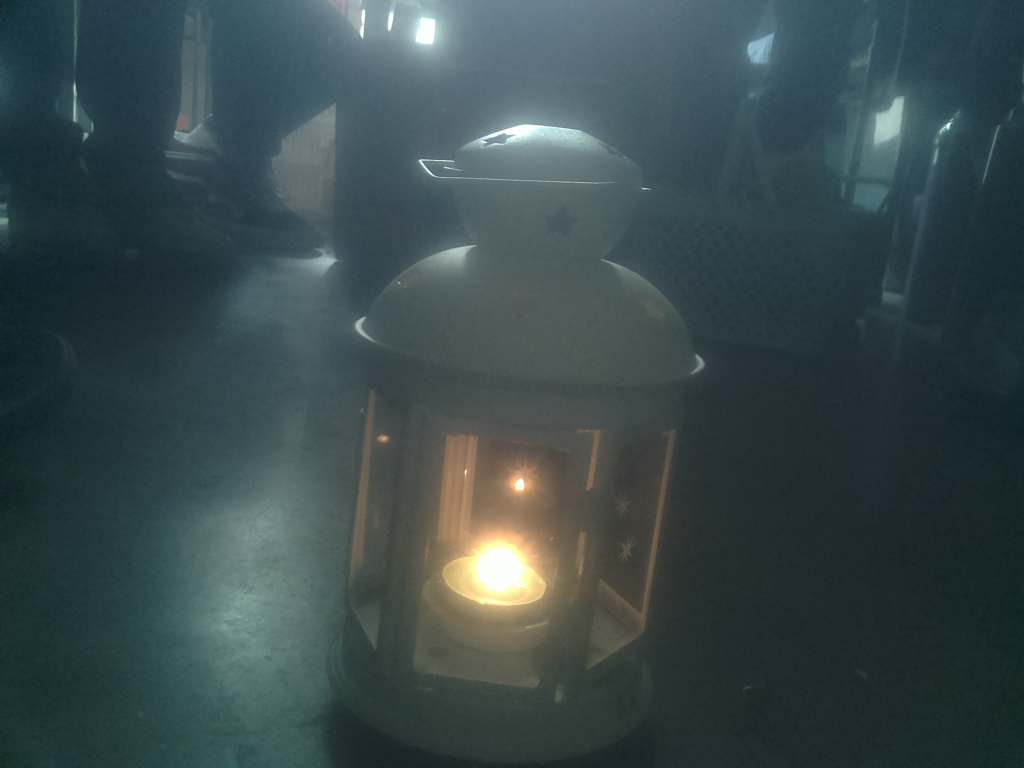fire: (431, 518, 576, 659)
